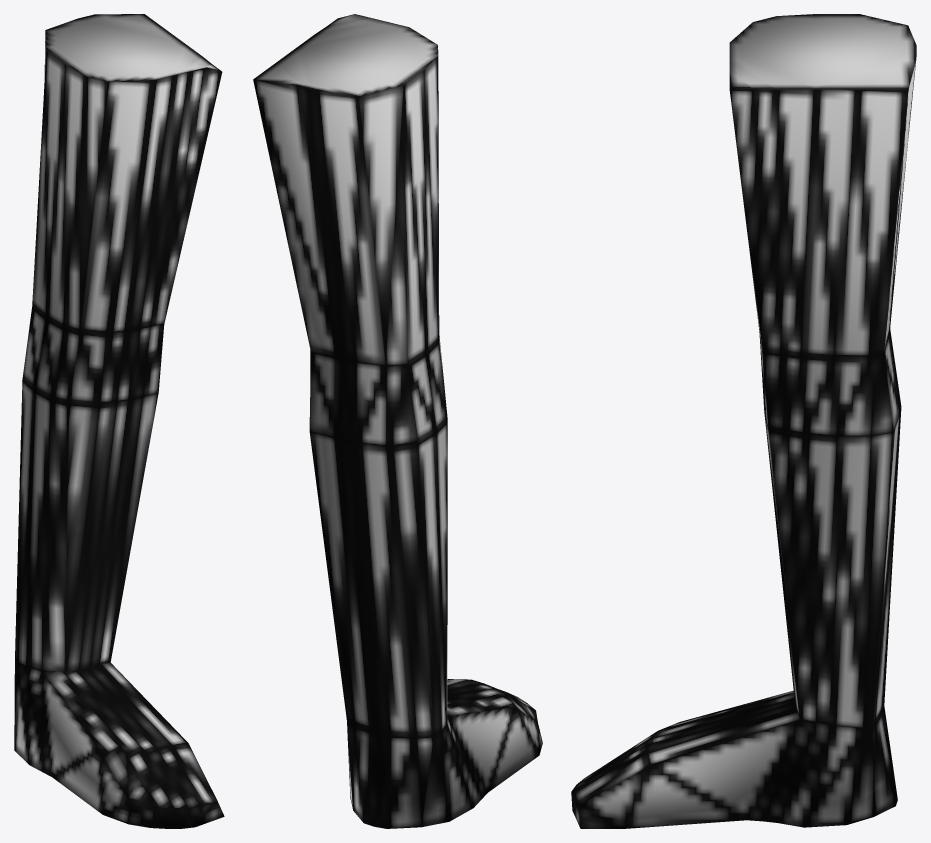
File: playerLleg.obj
The picture shows the model from 3 angles, left to right: view 1: azimuth 30°, elevation 25°; view 2: azimuth 150°, elevation 25°; view 3: azimuth 270°, elevation 25°; orthographic projection. The views are drawn at different scales.
Parts seen in each view (by area): view 1: 立方体.005; view 2: 立方体.005; view 3: 立方体.005.
Part boxes in pixels (x1,y1,x2,y2): 立方体.005: (14, 14, 224, 828); 立方体.005: (253, 14, 542, 828); 立方体.005: (571, 14, 916, 828).
Size of the model in its own units: 0.2357 by 0.9635 by 0.3848.
1 material, 1 textured.
